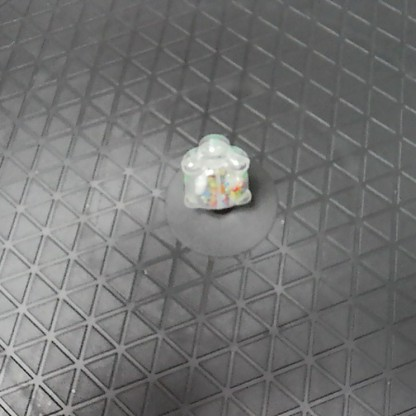whitefish: (179, 131, 252, 216)
